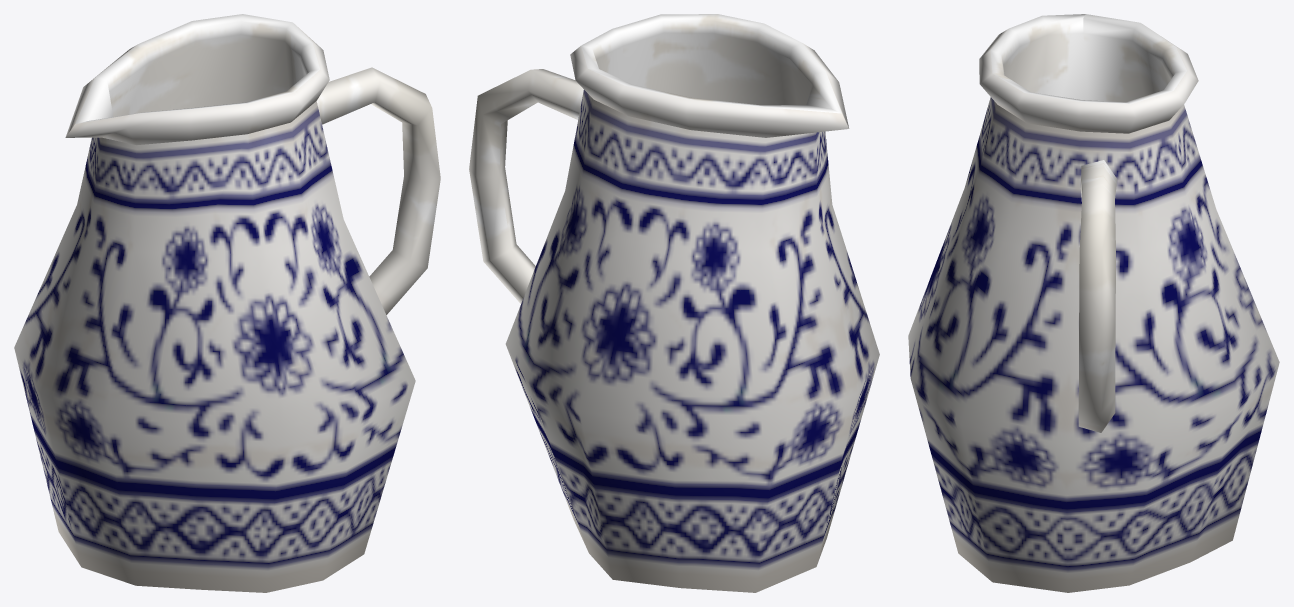
The model's file is SM_PROP_jug_city_01.fbx.
The picture shows the model from 3 angles, left to right: view 1: azimuth 30°, elevation 25°; view 2: azimuth 150°, elevation 25°; view 3: azimuth 270°, elevation 25°; orthographic projection.
Parts seen in each view (by area): view 1: SM_PROP_jug_city_01; view 2: SM_PROP_jug_city_01; view 3: SM_PROP_jug_city_01.
Part boxes in pixels (<box>): SM_PROP_jug_city_01: <box>14,14,440,592</box>; SM_PROP_jug_city_01: <box>469,14,879,592</box>; SM_PROP_jug_city_01: <box>908,14,1279,592</box>.
Bounding box in the file's own units: 31.68 × 37.14 × 26.14.
